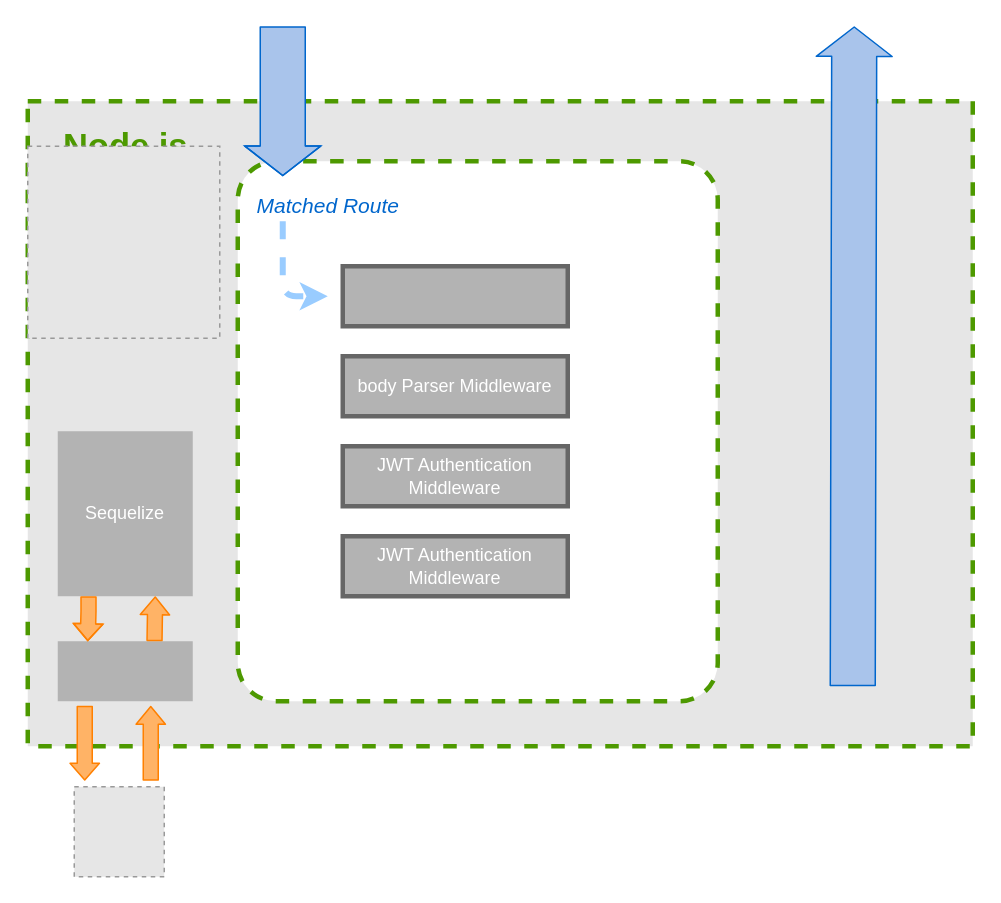
Some shapes in this 1001 by 903 pixel diagram are drawn without their labels. Grey dashed boxes stand in for pictures. The centre of each missing label's shape, as x and y in pixels:
"CORS Middleware" goes at point (454, 295).
"DB Driver" goes at point (124, 670).
